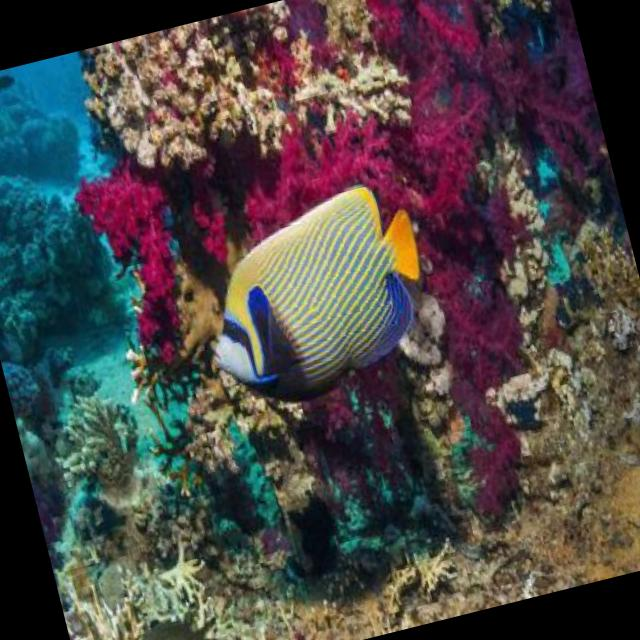AngelFish: (182, 174, 440, 409)
